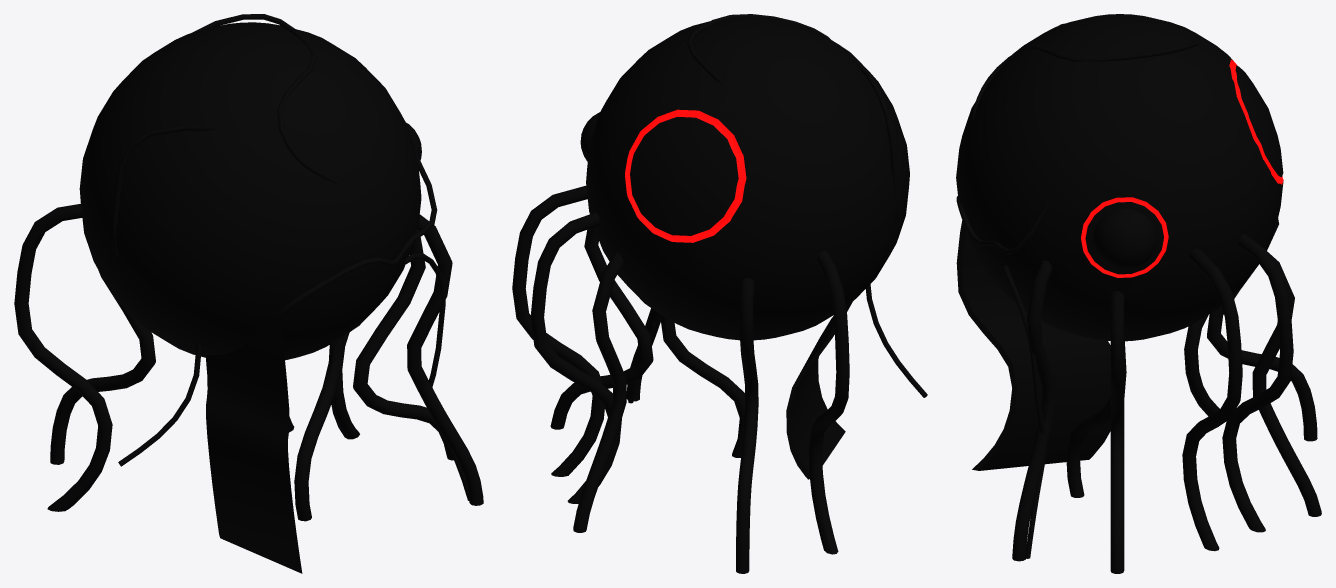
Rendered from Spawner.fbx.
The picture shows the model from 3 angles, left to right: view 1: azimuth 30°, elevation 25°; view 2: azimuth 150°, elevation 25°; view 3: azimuth 270°, elevation 25°; orthographic projection. The views are drawn at different scales.
Parts seen in each view (by area): view 1: Spawner; view 2: Spawner; view 3: Spawner.
Boxes of the visible parts, left/top/right/bottom form: Spawner: left=14, top=14, right=483, bottom=573; Spawner: left=512, top=14, right=927, bottom=573; Spawner: left=956, top=14, right=1321, bottom=573.
Size of the model in its own units: 5.18 by 6.21 by 4.53.
